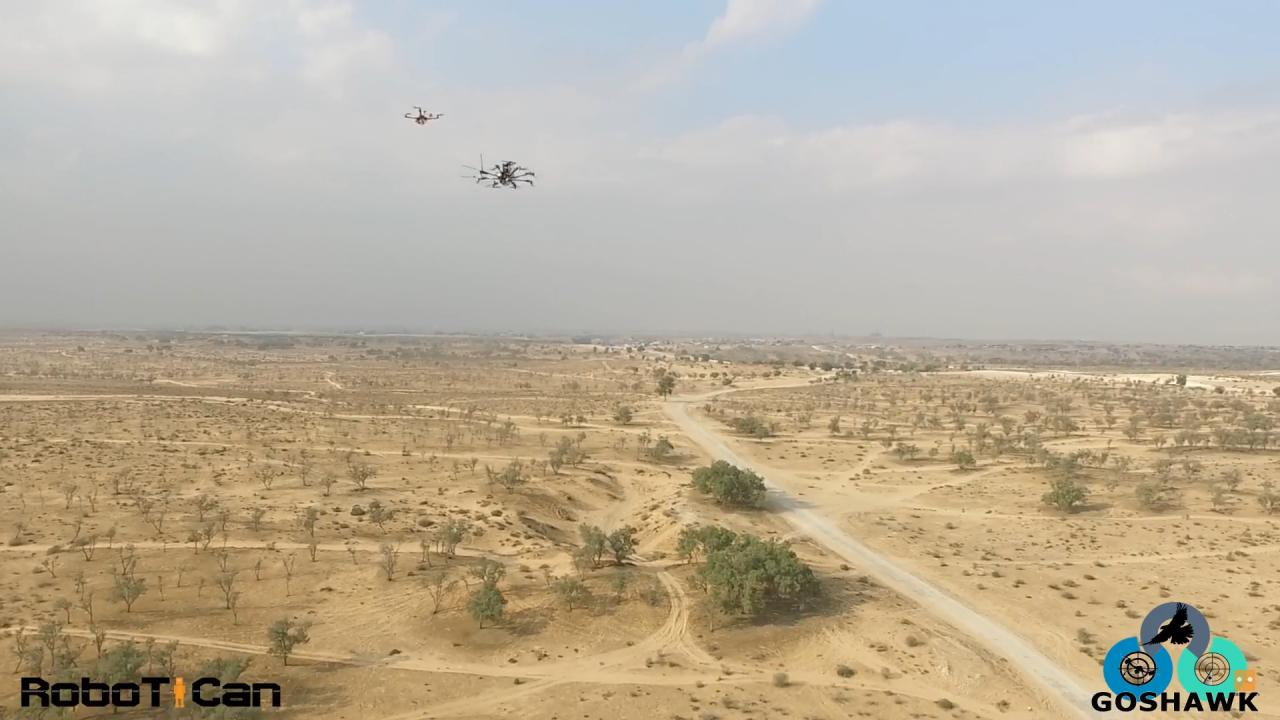Drone: (456, 144, 544, 200), (394, 95, 452, 133)
